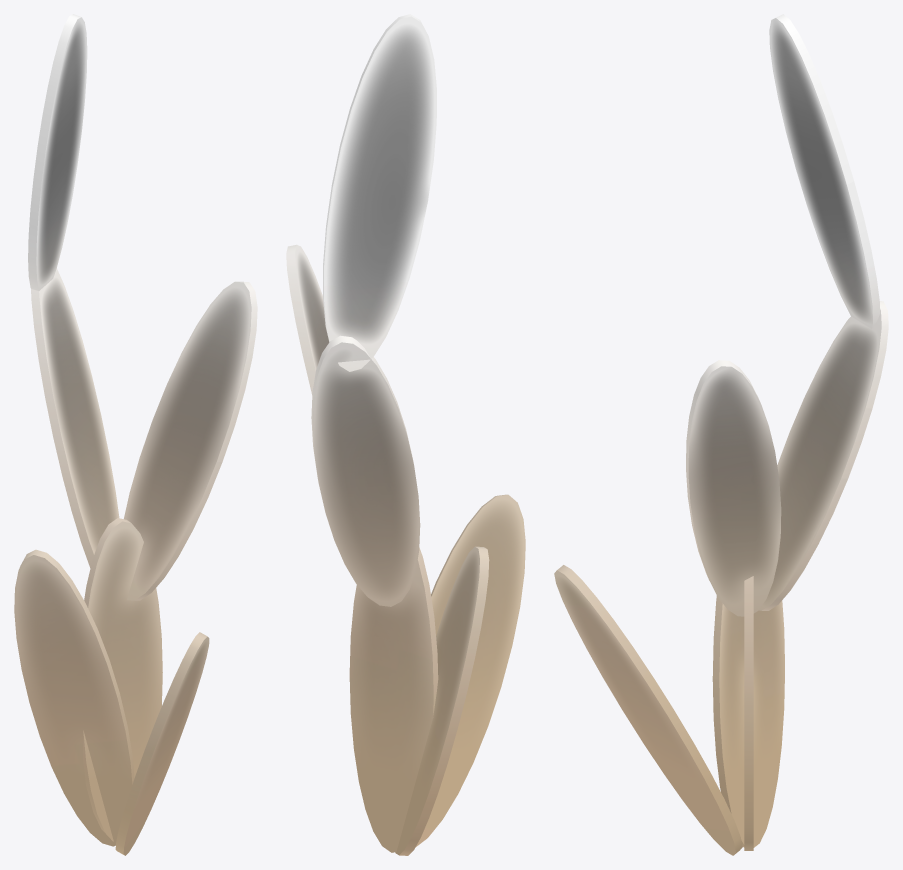
File: desertfigures_sep5_opt_color3.glb
The picture shows the model from 3 angles, left to right: view 1: azimuth 30°, elevation 25°; view 2: azimuth 150°, elevation 25°; view 3: azimuth 270°, elevation 25°; orthographic projection. The views are drawn at different scales.
Parts seen in each view (by area): view 1: desertfigure_2; view 2: desertfigure_2; view 3: desertfigure_2.
Boxes of the visible parts, x1,y1,x2,y2 form: desertfigure_2: (14,14,257,855); desertfigure_2: (286,14,525,855); desertfigure_2: (554,14,888,855).
Bounding box in the file's own units: 5.82 × 21.57 × 7.93.
1 material, 1 textured.
